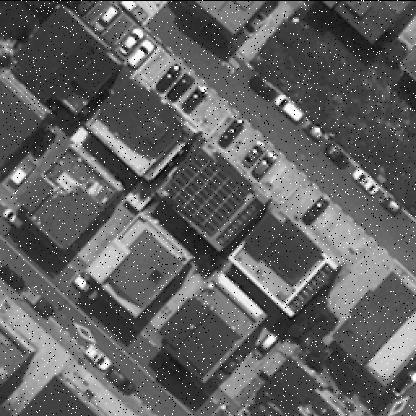solar-pv-panel: (163, 149, 248, 234)
